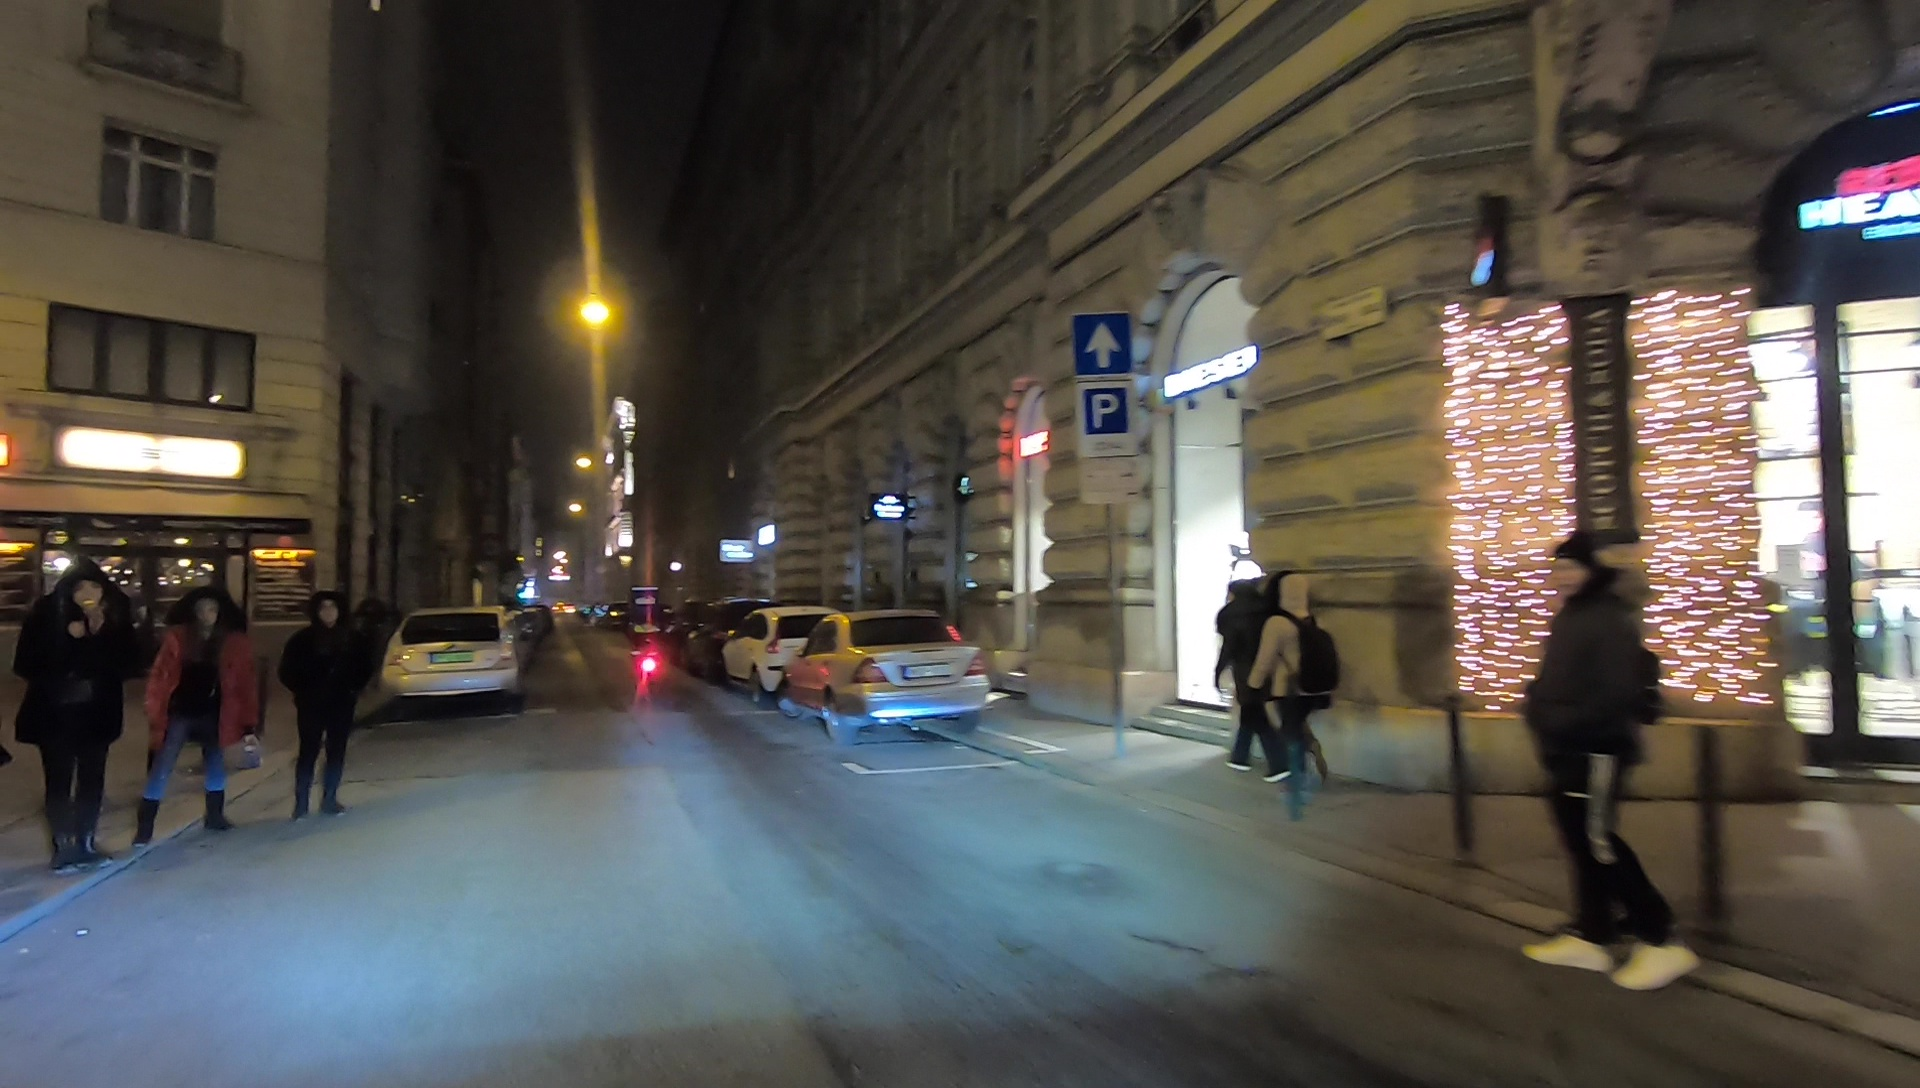person: (1532, 532, 1701, 995), (15, 560, 149, 869), (138, 587, 249, 836), (1254, 573, 1341, 806), (1219, 558, 1302, 784), (284, 589, 364, 817)
